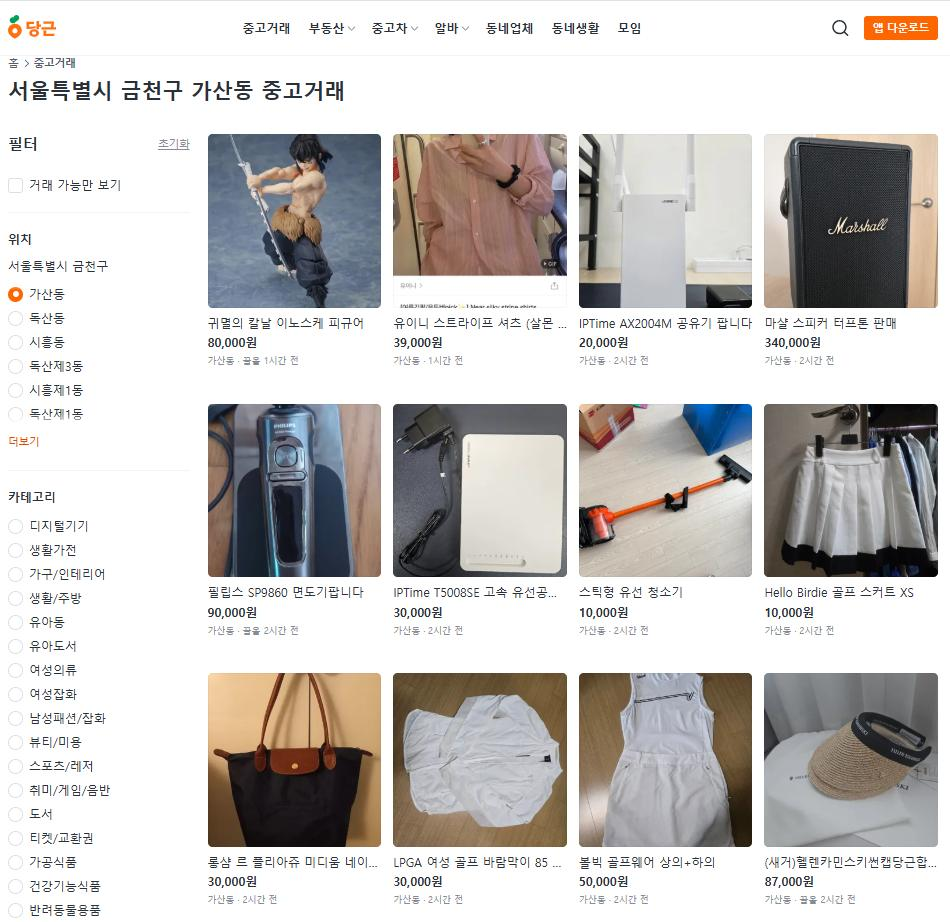button: (236, 9, 303, 38), (864, 18, 940, 41), (305, 13, 360, 39), (490, 16, 535, 45), (364, 16, 414, 40), (426, 21, 476, 41), (155, 133, 195, 154), (554, 21, 598, 40), (828, 14, 855, 35), (613, 19, 639, 38), (9, 434, 41, 449)
checkbox: (9, 876, 118, 896), (13, 174, 121, 194), (0, 584, 82, 608), (4, 375, 83, 398), (6, 758, 96, 778), (6, 564, 111, 581), (10, 830, 102, 849), (11, 784, 113, 800), (3, 356, 91, 374), (8, 711, 121, 725), (6, 904, 103, 920), (8, 518, 94, 536), (11, 405, 91, 424), (5, 853, 89, 871), (2, 541, 85, 559), (5, 637, 88, 655), (6, 684, 78, 703), (4, 735, 89, 751), (10, 330, 70, 350), (3, 660, 82, 675), (6, 285, 75, 300), (4, 615, 76, 629), (10, 308, 72, 324), (9, 804, 59, 820)
